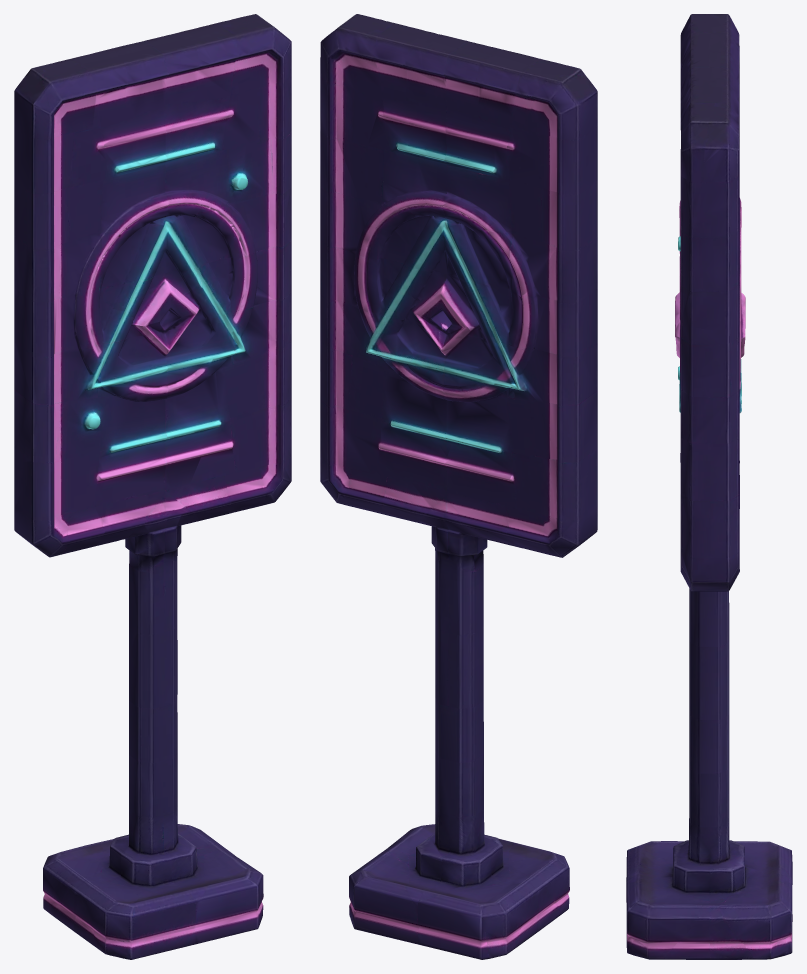
File: neon-sign-clean.glb
3 renders of one model, left to right at view 1: azimuth 30°, elevation 25°; view 2: azimuth 150°, elevation 25°; view 3: azimuth 270°, elevation 25°, orthographic.
Parts seen in each view (by area): view 1: mesh_node; view 2: mesh_node; view 3: mesh_node.
Part boxes in pixels (box(x1,y1,x2,y2)): mesh_node: box(14, 14, 291, 959); mesh_node: box(320, 14, 597, 959); mesh_node: box(626, 14, 792, 959).
Size of the model in its own units: 19460 by 62362 by 10947.
Materials: 1 (1 with a texture image).
